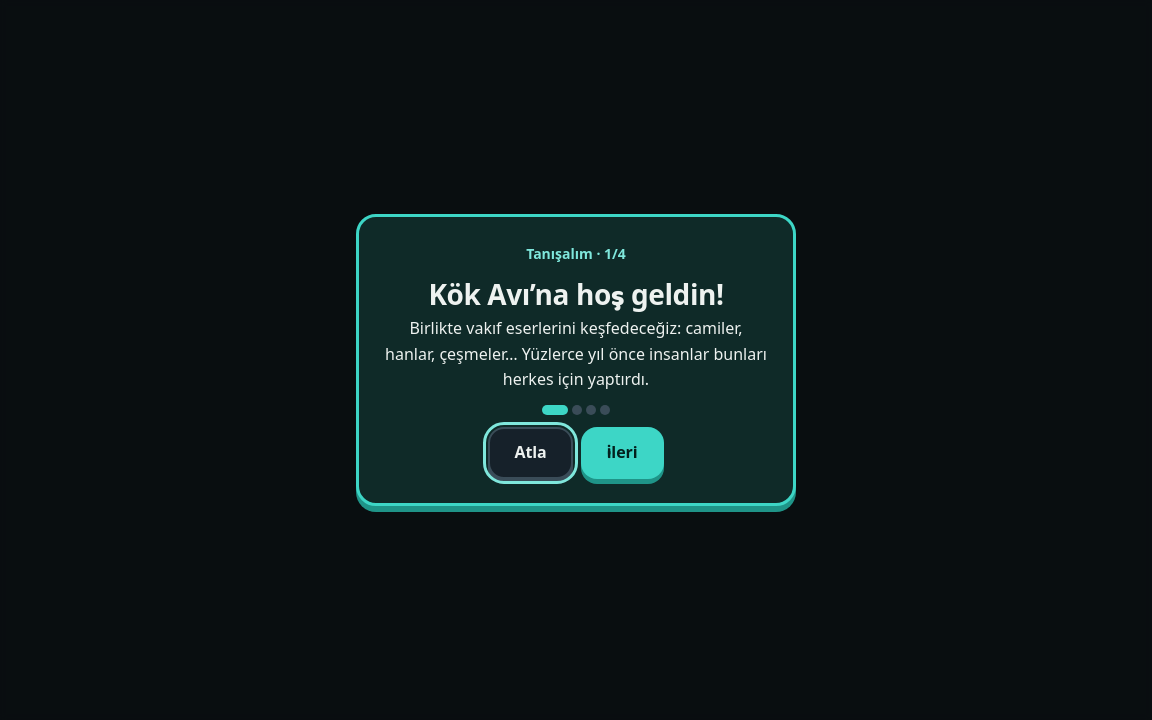
tanıtım turu › ceza yok ilkesi turda söylenir
This screenshot has width=1152, height=720.
Click the button "İleri": (622, 453) [581,427,664,479]
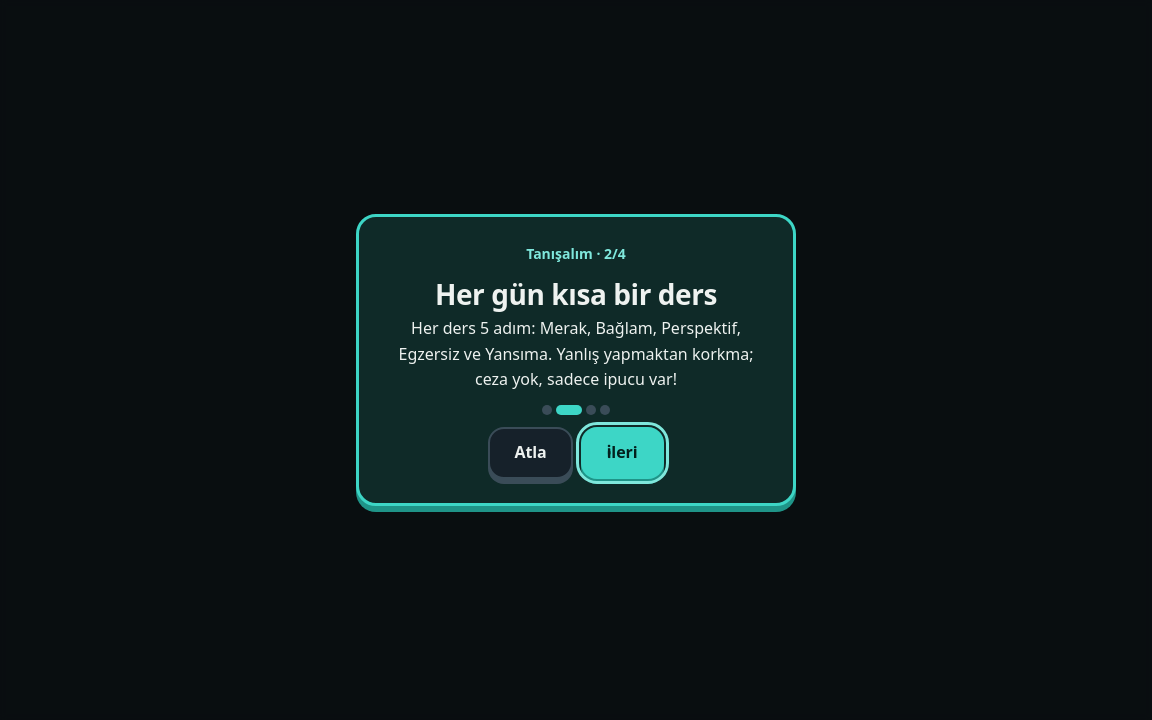
Now the text "ceza yok" is shown, box [398,317,754,390]
